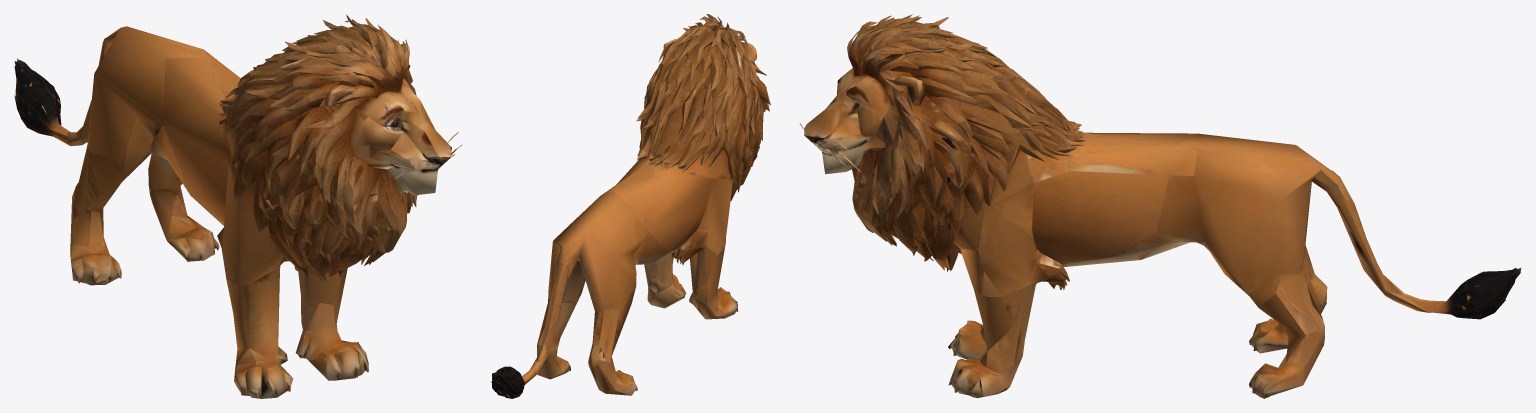
Rendered from lion-lod.glb.
3 renders of one model, left to right at view 1: azimuth 30°, elevation 25°; view 2: azimuth 150°, elevation 25°; view 3: azimuth 270°, elevation 25°, orthographic. The views are drawn at different scales.
Size of the model in its own units: 0.4737 by 1.05 by 1.91.
Materials: 1 (1 with a texture image).
